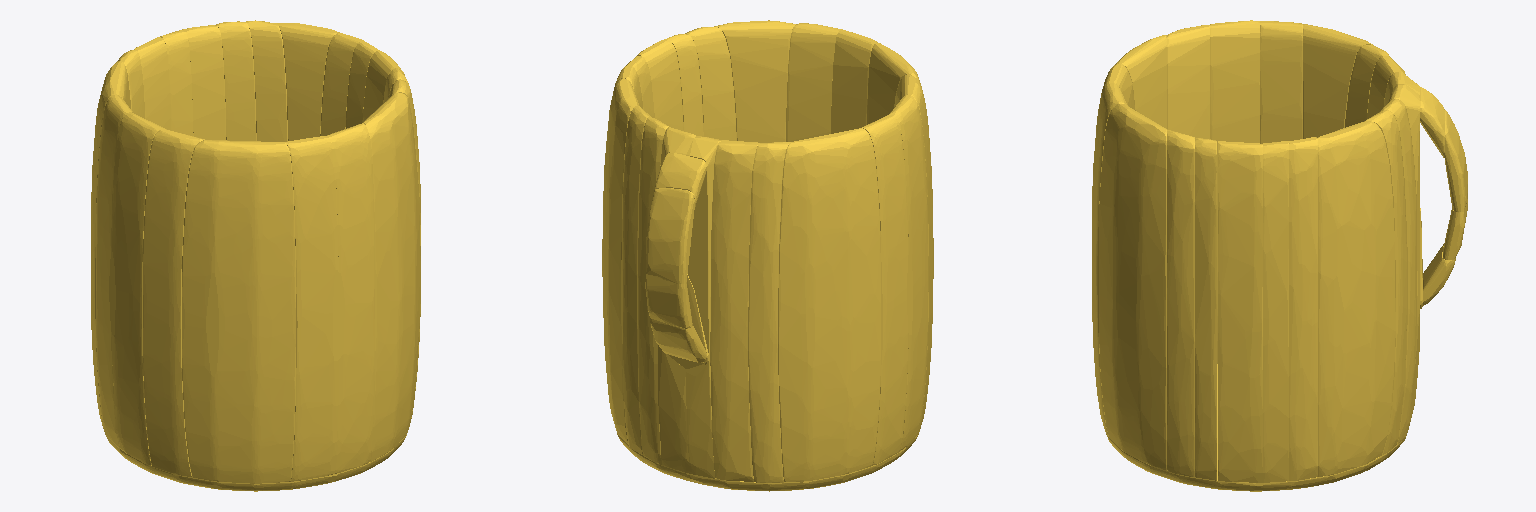
The robot description file, URDF, robot "805.urdf":
<?xml version="1.0" ?>
<robot name="805.urdf">
	<link name="baseLink">
		<inertial>
			<origin rpy="0 0 0" xyz="0 0 0"/>
				<mass value="0.1"/>
				<inertia ixx="6e-5" ixy="0" ixz="0" iyy="6e-5" iyz="0" izz="6e-5"/>
		</inertial>
		<visual>
			<origin rpy="0 0 0" xyz="0 0 0"/>
			<geometry>
				<mesh filename="26_decom_wt.obj" scale="0.81 0.81 0.92"/>
			</geometry>
			<material name="yellow">
				<color rgba="0.98 0.84 0.35 1"/>
			</material>
		</visual>
		<collision>
			<origin rpy="0 0 0" xyz="0 0 0"/>
			<geometry>
				<mesh filename="26_decom_wt.obj" scale="0.81 0.81 0.92"/>
			</geometry>
		</collision>
	</link>
</robot>

--- Render facts (derived) ---
Views: 3 orthographic renders of the robot side by side, from view 1: azimuth 30°, elevation 25°; view 2: azimuth 150°, elevation 25°; view 3: azimuth 270°, elevation 25°.
Model 805.urdf with 1 links and 0 joints (none), rooted at baseLink, posed all joints at 0.
Links seen in each view (by area): view 1: baseLink; view 2: baseLink; view 3: baseLink.
Boxes of the visible links, bbox=[...] form: baseLink: bbox=[91, 20, 420, 491]; baseLink: bbox=[602, 20, 933, 491]; baseLink: bbox=[1092, 20, 1467, 491].
Size in the robot's own frame: 0.0889 by 0.1014 by 0.1034 metres.
Meshes: 1 distinct files referenced, 1 mesh visuals loaded (1 OBJ).